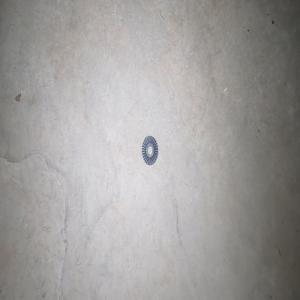Washer: (141, 135, 158, 165)
